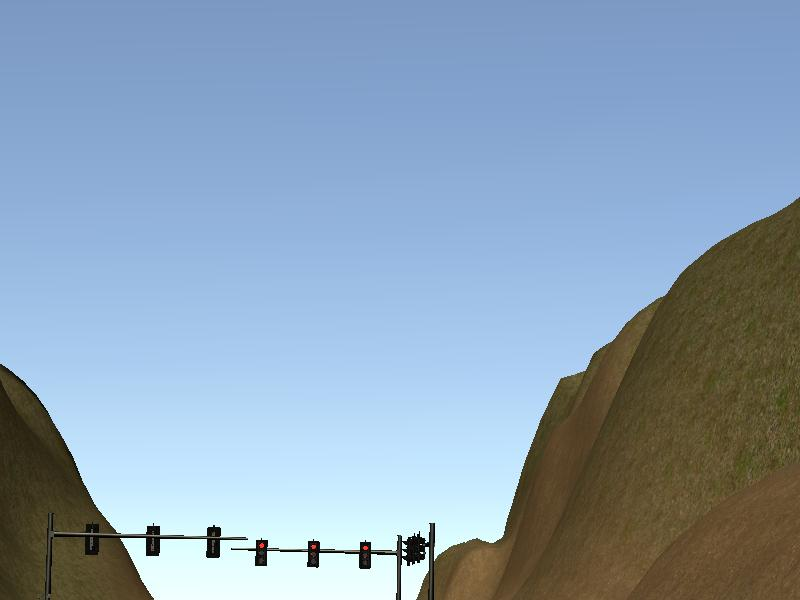Red: (358, 541, 372, 570), (254, 538, 265, 565), (308, 539, 319, 566)
